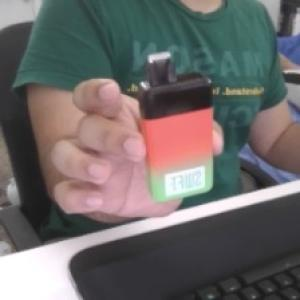Swift-E-Ciggirate: (133, 46, 220, 206)
